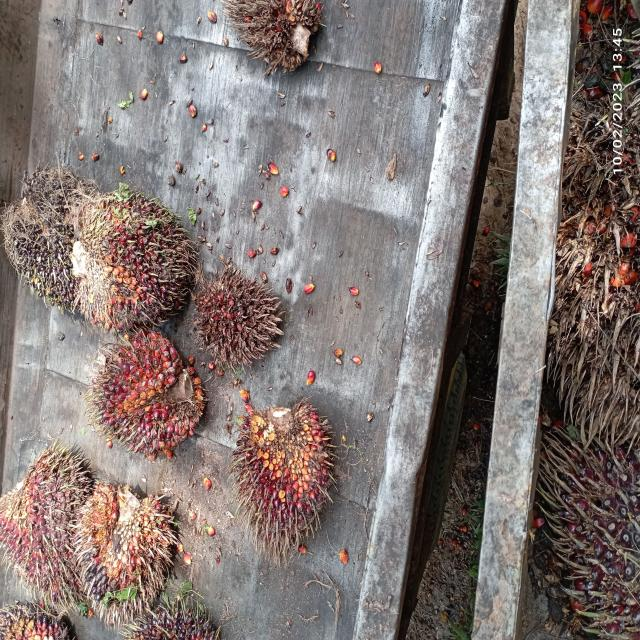fraksi 00: (0, 161, 96, 337), (74, 483, 180, 624)
fraksi 1: (60, 172, 205, 342), (0, 440, 100, 610)
fraksi 3: (213, 390, 356, 560), (92, 320, 225, 466)
